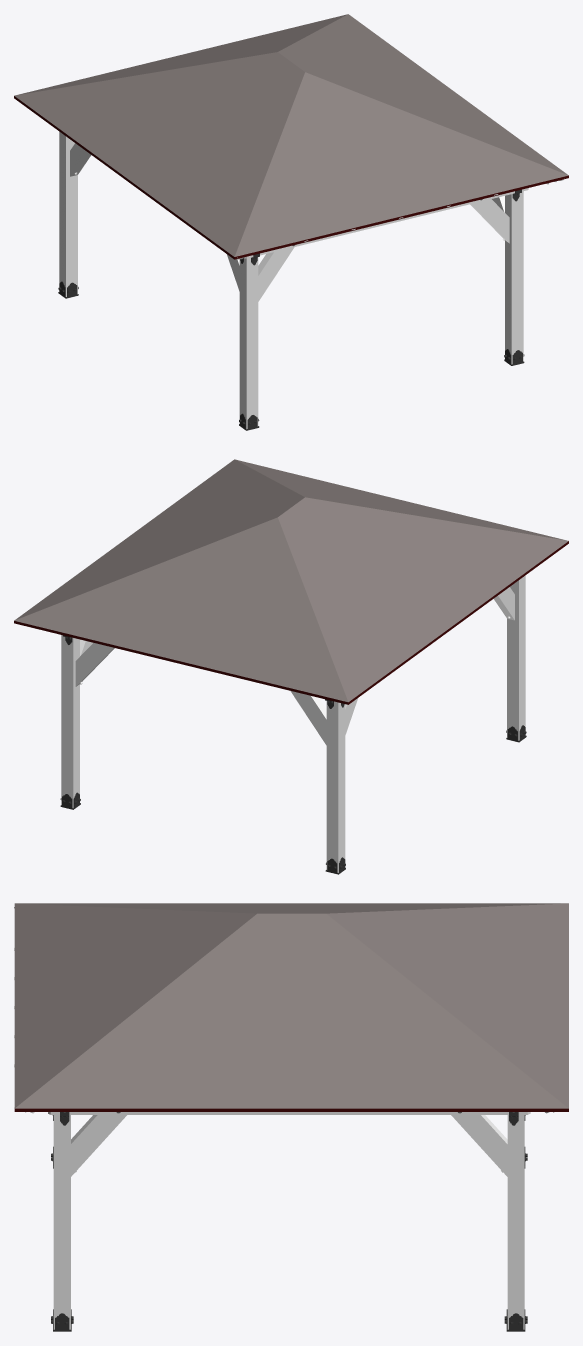
File: saratoga-14x16-classic.obj
3 renders of one model, top to bottom at view 1: azimuth 30°, elevation 25°; view 2: azimuth 150°, elevation 25°; view 3: azimuth 270°, elevation 25°, orthographic. The views are drawn at different scales.
Visible parts, largest first — view 1: Mesh228 shingles roof Group1 Model, Mesh179 Group73 Component_92_4 Group2 Group1 Model, Mesh81 Group45 Component_92_2 Group2 Group1 Model, Mesh130 Group59 Component_92_3 Group2 Group1 Model, Mesh229 roof Group1 Model, Mesh219 Component_91_7 Component_92_4 Group2 Group1 Model, Mesh121 Component_91_3 Component_92_2 Group2 Group1 Model, Mesh77 Component_135_1 Group2 Group1 Model; view 2: Mesh228 shingles roof Group1 Model, Mesh130 Group59 Component_92_3 Group2 Group1 Model, Mesh1 Group4 Component_92_1 Group3 Group2 Group1 Model, Mesh179 Group73 Component_92_4 Group2 Group1 Model, Mesh229 roof Group1 Model, Mesh170 Component_91_5 Component_92_3 Group2 Group1 Model, Mesh41 Component_91_1 Component_92_1 Group3 Group2 Group1 Model; view 3: Mesh228 shingles roof Group1 Model, Mesh1 Group4 Component_92_1 Group3 Group2 Group1 Model, Mesh81 Group45 Component_92_2 Group2 Group1 Model, Mesh229 roof Group1 Model, Mesh45 Component_91_2 Component_92_1 Group3 Group2 Group1 Model, Mesh125 Component_91_4 Component_92_2 Group2 Group1 Model, Mesh80 Component_134_2 Group2 Group1 Model.
Part boxes in pixels (bbox=[...]): Mesh228 shingles roof Group1 Model: bbox=[14, 14, 568, 256]; Mesh179 Group73 Component_92_4 Group2 Group1 Model: bbox=[239, 257, 258, 429]; Mesh81 Group45 Component_92_2 Group2 Group1 Model: bbox=[505, 191, 523, 364]; Mesh130 Group59 Component_92_3 Group2 Group1 Model: bbox=[59, 132, 77, 296]; Mesh229 roof Group1 Model: bbox=[14, 96, 568, 259]; Mesh219 Component_91_7 Component_92_4 Group2 Group1 Model: bbox=[258, 247, 294, 301]; Mesh121 Component_91_3 Component_92_2 Group2 Group1 Model: bbox=[470, 199, 509, 243]; Mesh77 Component_135_1 Group2 Group1 Model: bbox=[243, 188, 528, 258]; Mesh228 shingles roof Group1 Model: bbox=[14, 459, 568, 702]; Mesh130 Group59 Component_92_3 Group2 Group1 Model: bbox=[326, 701, 345, 872]; Mesh1 Group4 Component_92_1 Group3 Group2 Group1 Model: bbox=[61, 635, 79, 807]; Mesh179 Group73 Component_92_4 Group2 Group1 Model: bbox=[507, 575, 525, 740]; Mesh229 roof Group1 Model: bbox=[14, 541, 568, 704]; Mesh170 Component_91_5 Component_92_3 Group2 Group1 Model: bbox=[290, 691, 326, 745]; Mesh41 Component_91_1 Component_92_1 Group3 Group2 Group1 Model: bbox=[75, 643, 114, 686]; Mesh228 shingles roof Group1 Model: bbox=[14, 903, 568, 1108]; Mesh1 Group4 Component_92_1 Group3 Group2 Group1 Model: bbox=[507, 1115, 524, 1329]; Mesh81 Group45 Component_92_2 Group2 Group1 Model: bbox=[53, 1115, 70, 1329]; Mesh229 roof Group1 Model: bbox=[14, 1108, 568, 1111]; Mesh45 Component_91_2 Component_92_1 Group3 Group2 Group1 Model: bbox=[451, 1115, 507, 1176]; Mesh125 Component_91_4 Component_92_2 Group2 Group1 Model: bbox=[71, 1115, 126, 1176]; Mesh80 Component_134_2 Group2 Group1 Model: bbox=[59, 1112, 518, 1114].
Bounding box in the file's own units: 169 × 128 × 193.
